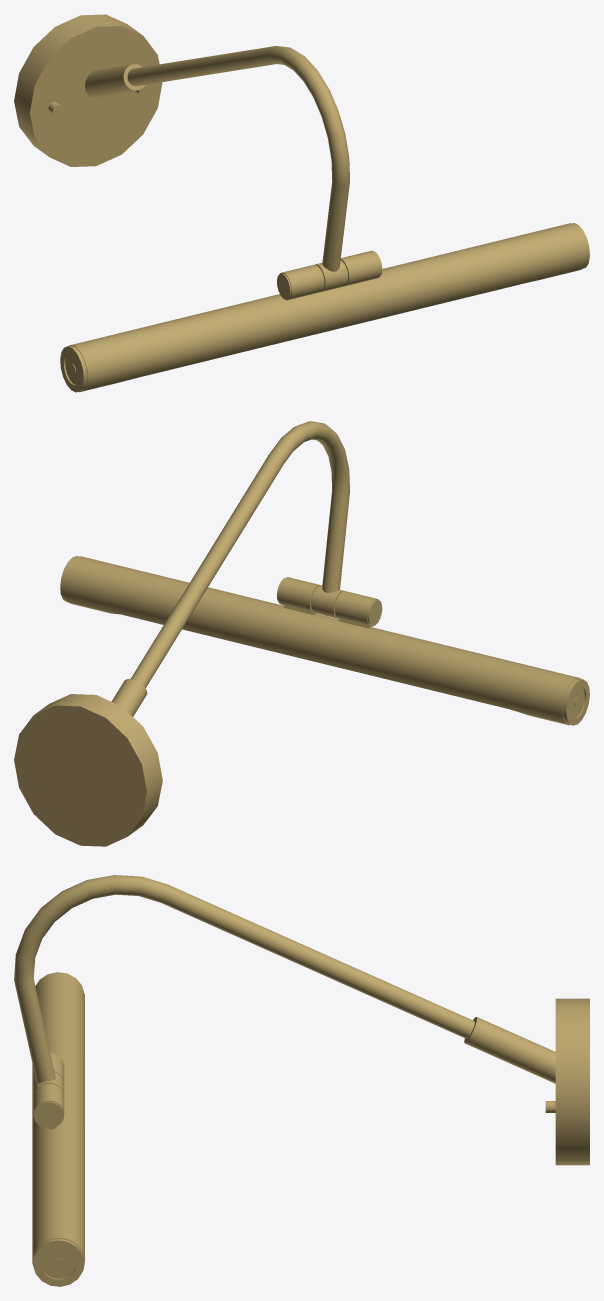
The model's file is wall_light.glb.
3 views of the same model, one above another, from view 1: azimuth 30°, elevation 25°; view 2: azimuth 150°, elevation 25°; view 3: azimuth 270°, elevation 25° (orthographic). The views are drawn at different scales.
Parts seen in each view (by area): view 1: gold; view 2: gold; view 3: gold.
Part boxes in pixels (box(x1,y1,x2,y2)): gold: box(14, 14, 589, 392); gold: box(14, 421, 589, 846); gold: box(14, 875, 589, 1286).
Size of the model in its own units: 0.388 by 0.19 by 0.352.
